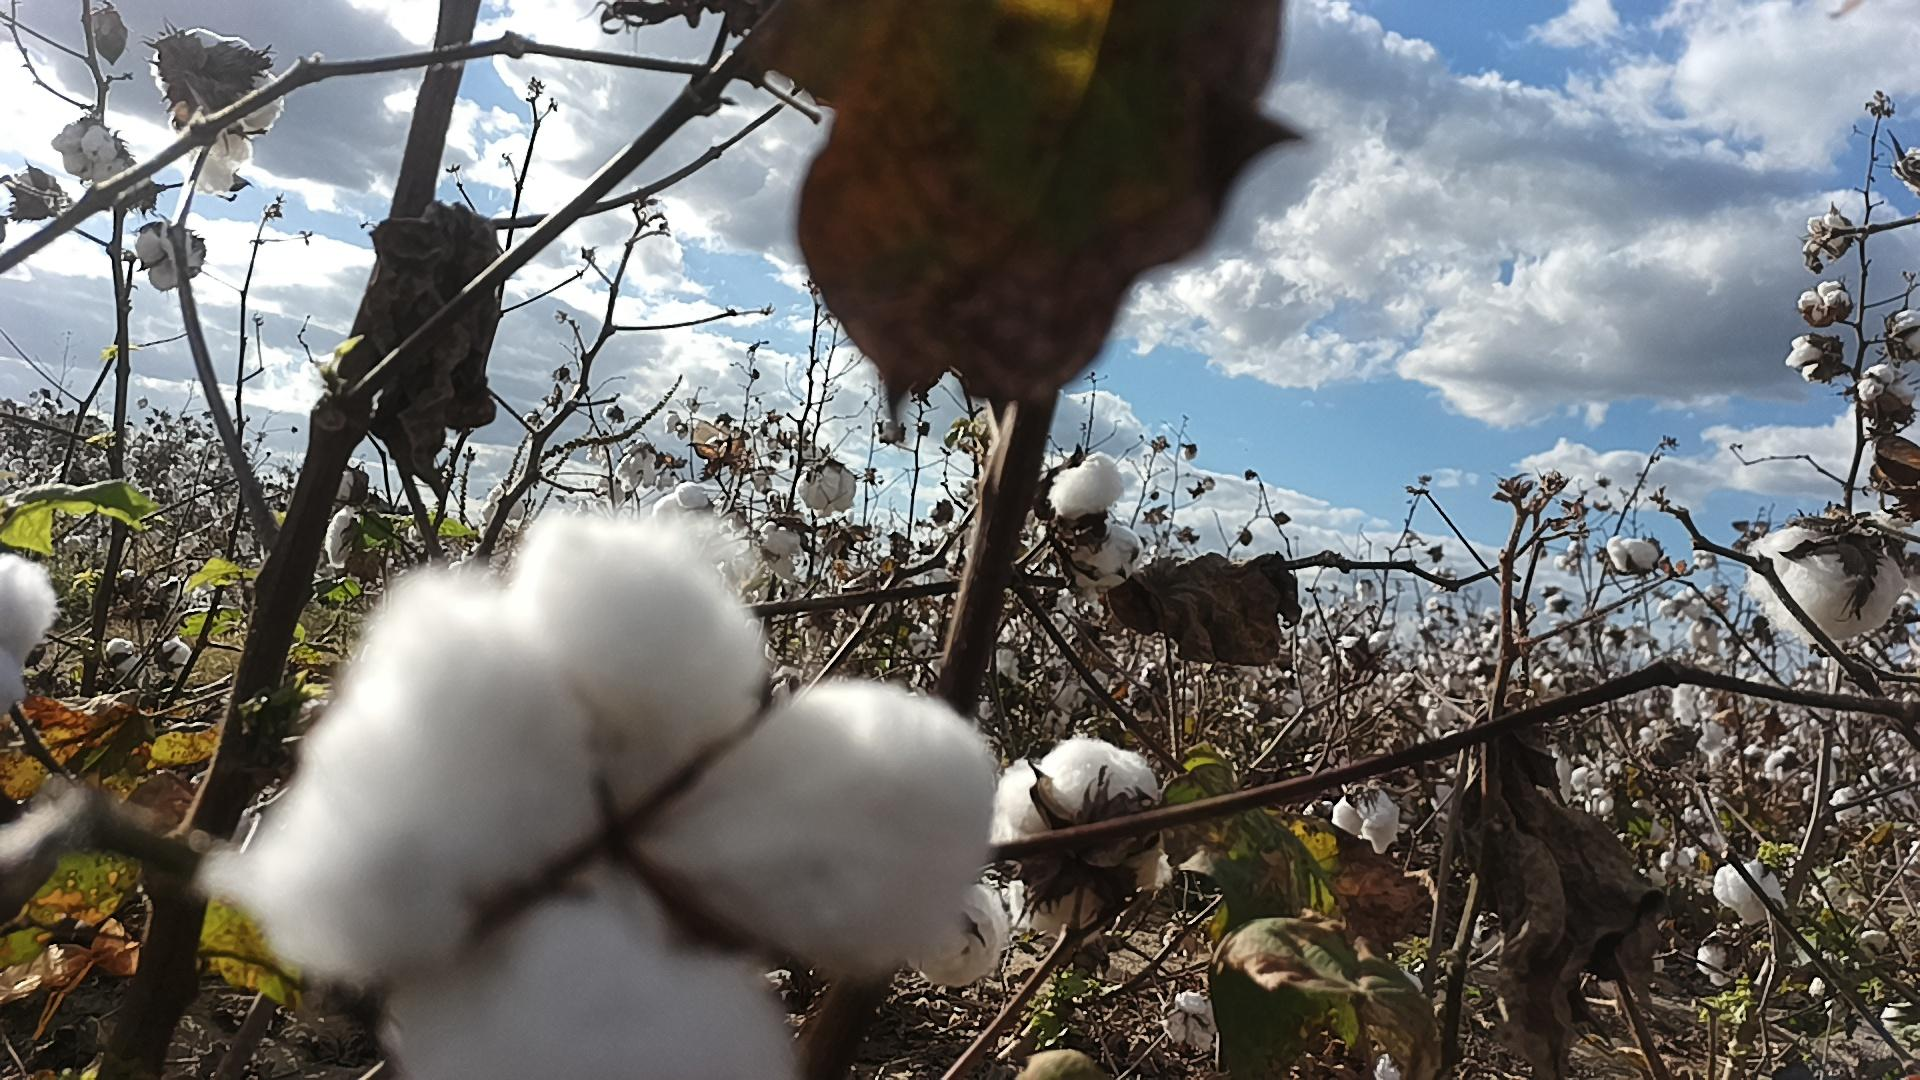cotton_ready: (202, 505, 998, 1080), (994, 736, 1174, 935), (148, 29, 284, 186), (1749, 527, 1912, 651), (1046, 458, 1133, 593), (0, 553, 58, 707), (920, 891, 1014, 985), (132, 222, 203, 287)
